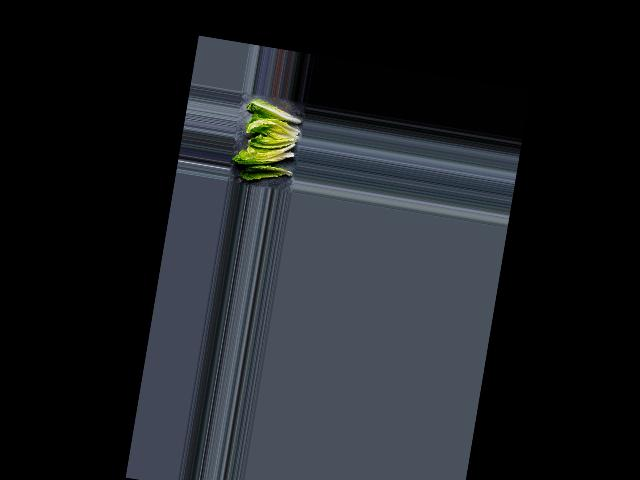lettuce: (240, 160, 295, 186)
